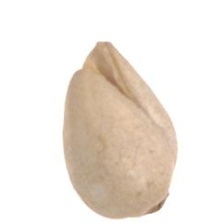L1: (73, 36, 124, 95), (141, 193, 171, 215)
L2: (63, 41, 178, 220)
